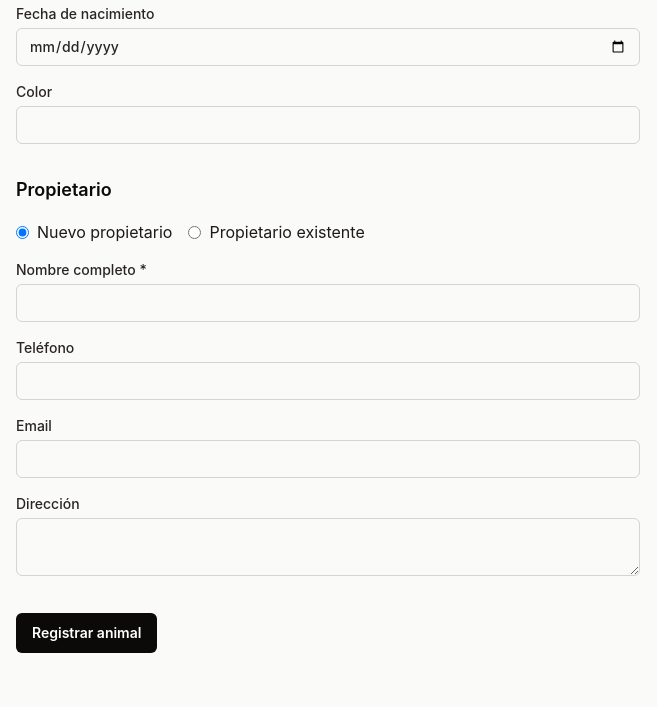
Test: AnimalRegistrationPage › renders the available registration form and validates required fields
(page scrolled)
Click the button "Registrar animal" at (87, 633), box left=16, top=613, right=157, bottom=653
(page scrolled)
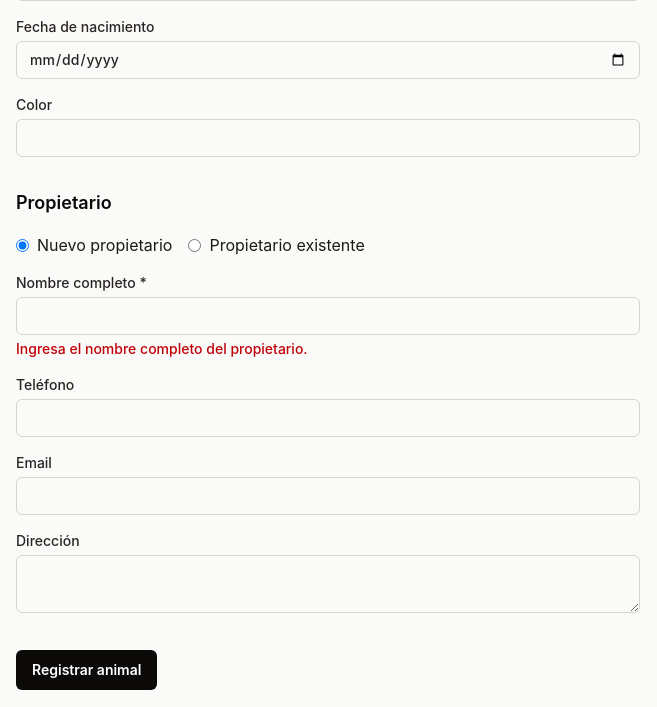
Check: the text "Ingresa el nombre completo del propietario." is shown, box left=16, top=340, right=308, bottom=357
